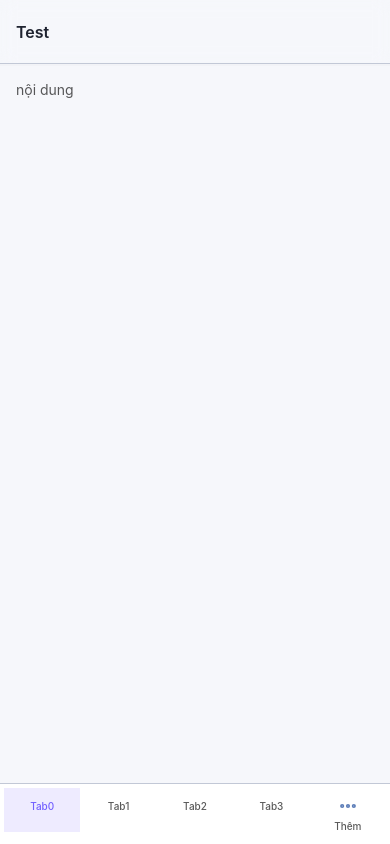
Test case: AppShell bottom nav › bấm Thêm mở sheet đầy đủ, chọn module ngoài slot đầu
Click the button "Thêm": {"x": 348, "y": 814} [310, 788, 386, 840]
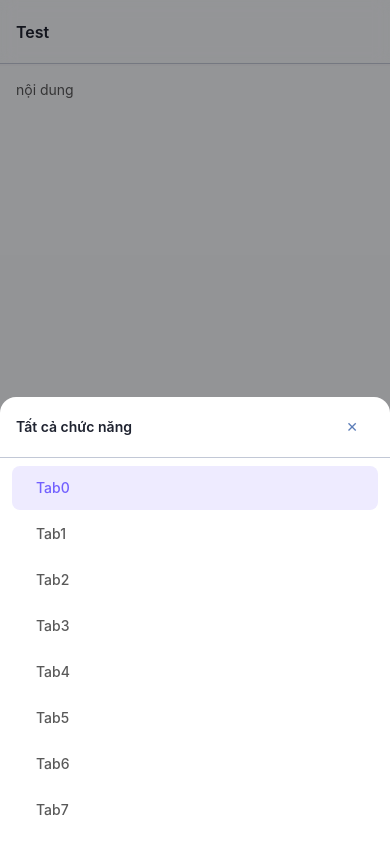
Click the button "Tab6": {"x": 53, "y": 764} [12, 742, 378, 786]
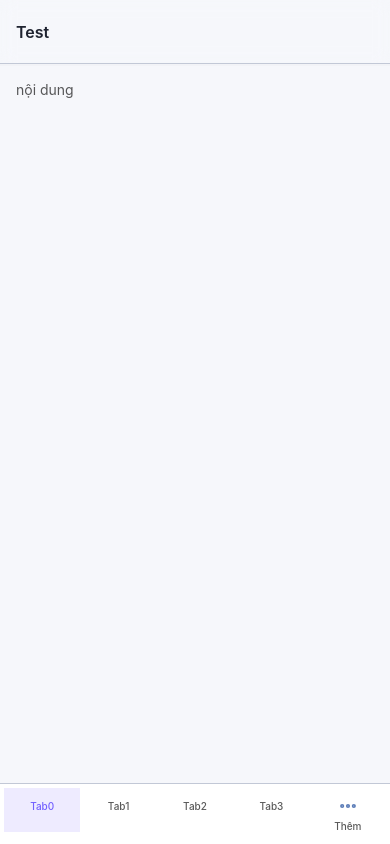
Expected: the text "Tất cả chức năng" is gone
